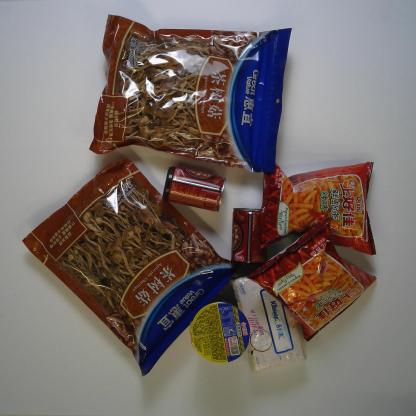Canned Food: (160, 165, 226, 216), (230, 206, 268, 276)
Dried Food: (19, 156, 238, 380), (88, 12, 294, 177)
Instant Noodles: (188, 299, 253, 365)
Puffed Food: (245, 215, 377, 344), (257, 162, 378, 256)
Tissue: (229, 273, 308, 373)
